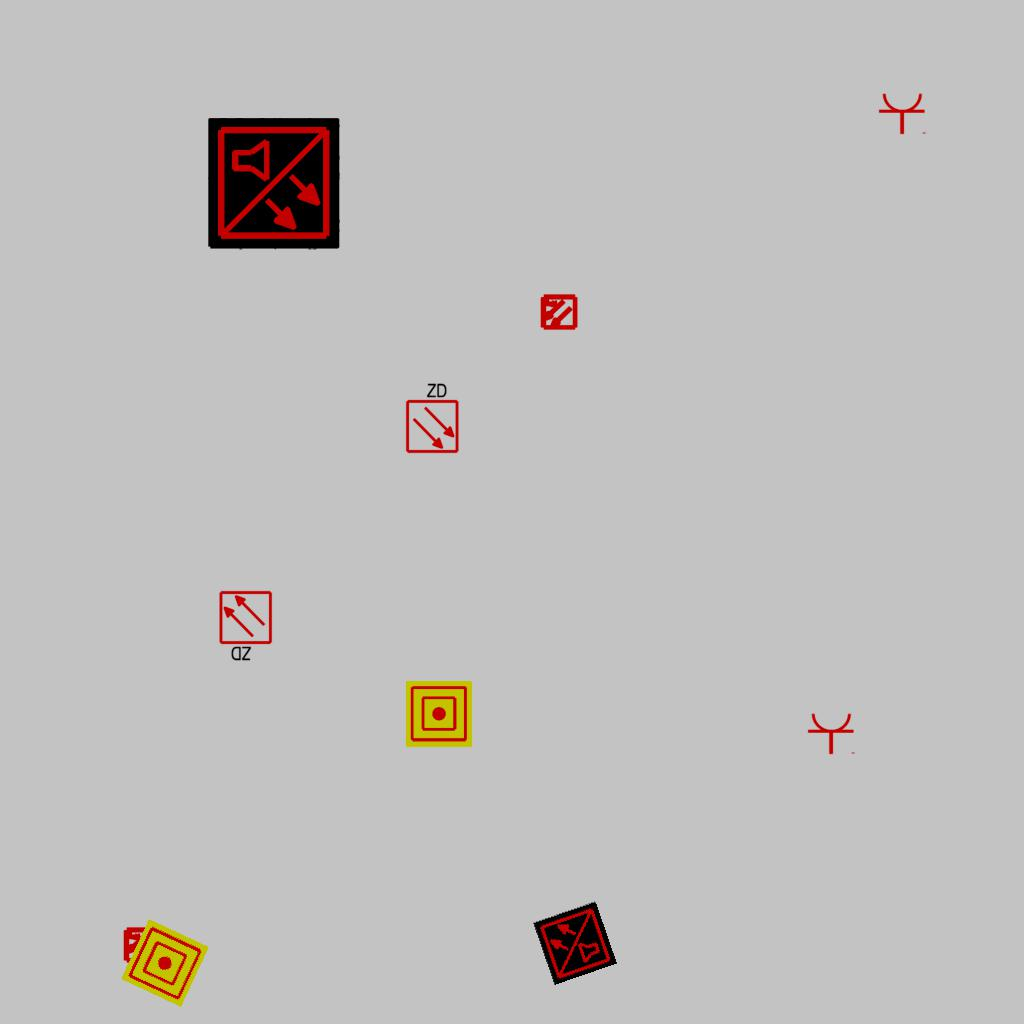NAM-Nichtautomatischer_Melder: (121, 919, 209, 1007), (406, 681, 472, 747)
OKW_Multisensormelder_(Kombination_optischer_Rauch-Kahlenmonoxid_Waerme-Melder): (208, 118, 340, 250), (533, 901, 617, 985)
OT_Multisensormelder_(Kombination_RMO_WMD): (113, 917, 169, 973), (530, 284, 586, 340)
Schukosteckdose_einfach: (807, 712, 857, 755), (878, 92, 928, 135)
ZD_Melder_in_Zwischendecke_mit_Revisionsoeffnung_mind_40_x_40_cm: (218, 590, 275, 664), (403, 380, 460, 454)
